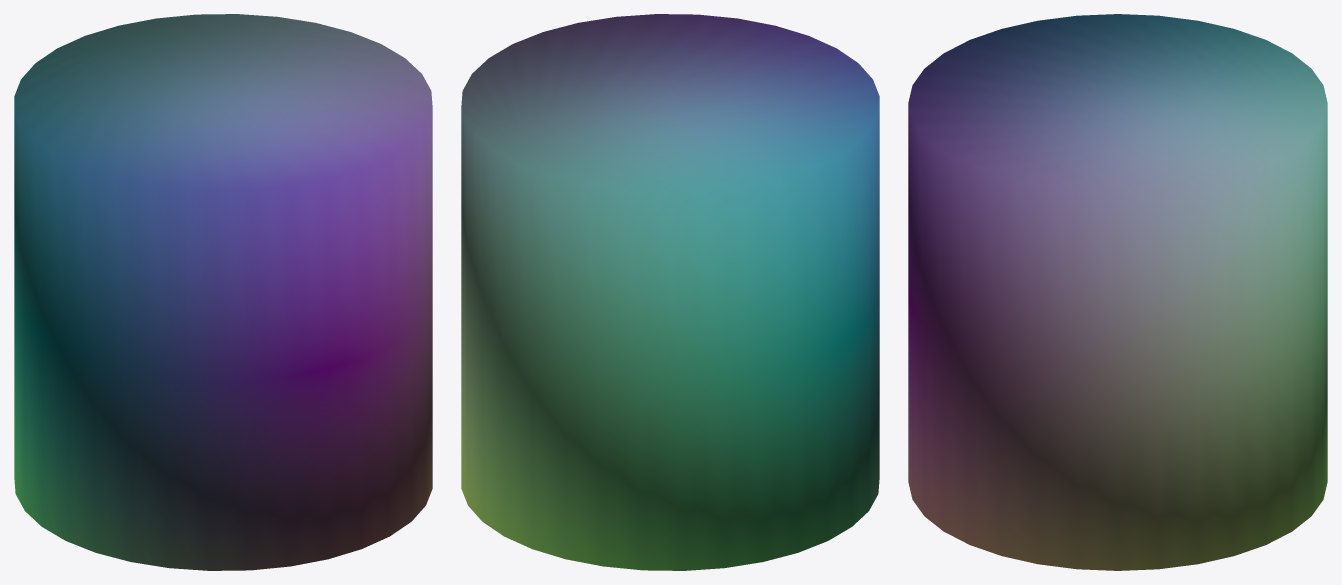
3 views of the same model, side by side, from view 1: azimuth 30°, elevation 25°; view 2: azimuth 150°, elevation 25°; view 3: azimuth 270°, elevation 25° (orthographic).
Parts seen in each view (by area): view 1: Cylinder; view 2: Cylinder; view 3: Cylinder.
Boxes of the visible parts, x1,y1,x2,y2 form: Cylinder: (14, 14, 432, 570); Cylinder: (461, 14, 879, 570); Cylinder: (908, 14, 1327, 570).
Bounding box in the file's own units: 200 × 200 × 200.
